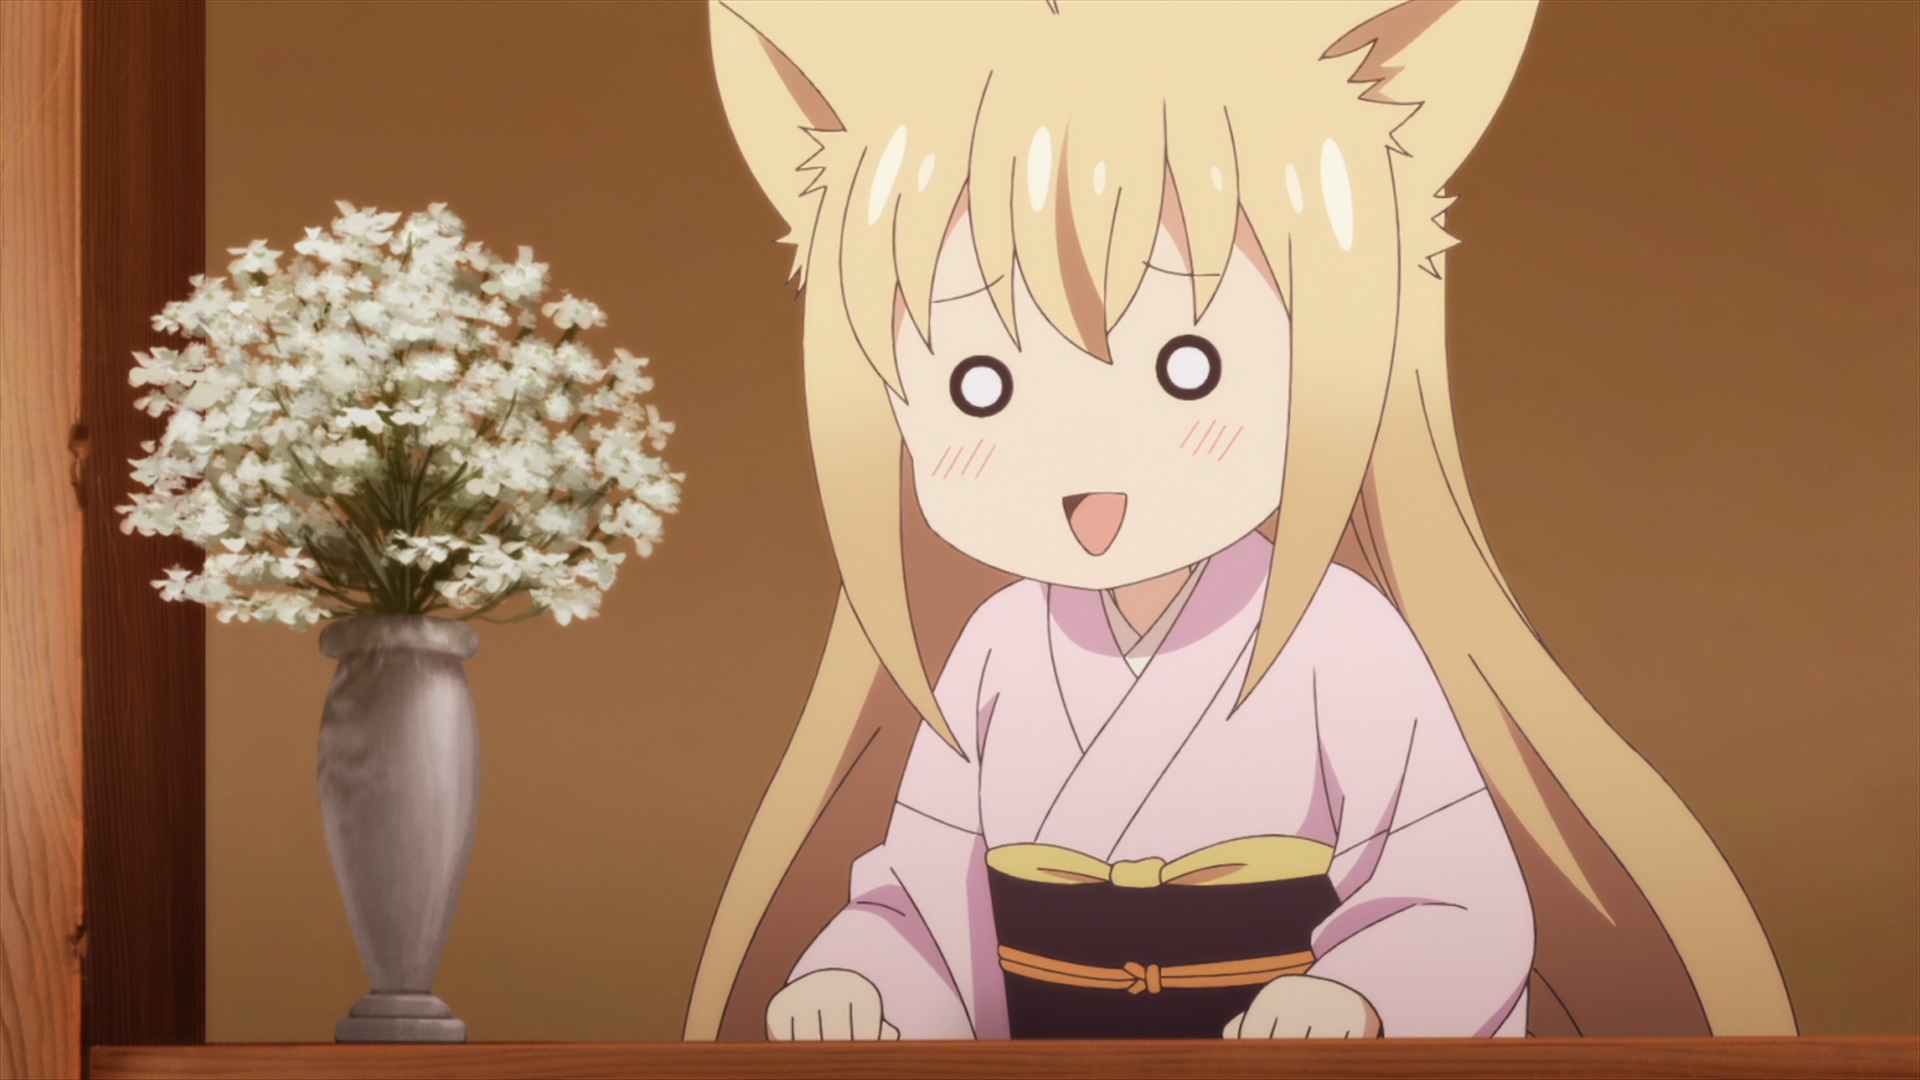柚: (680, 1, 1797, 1039)
